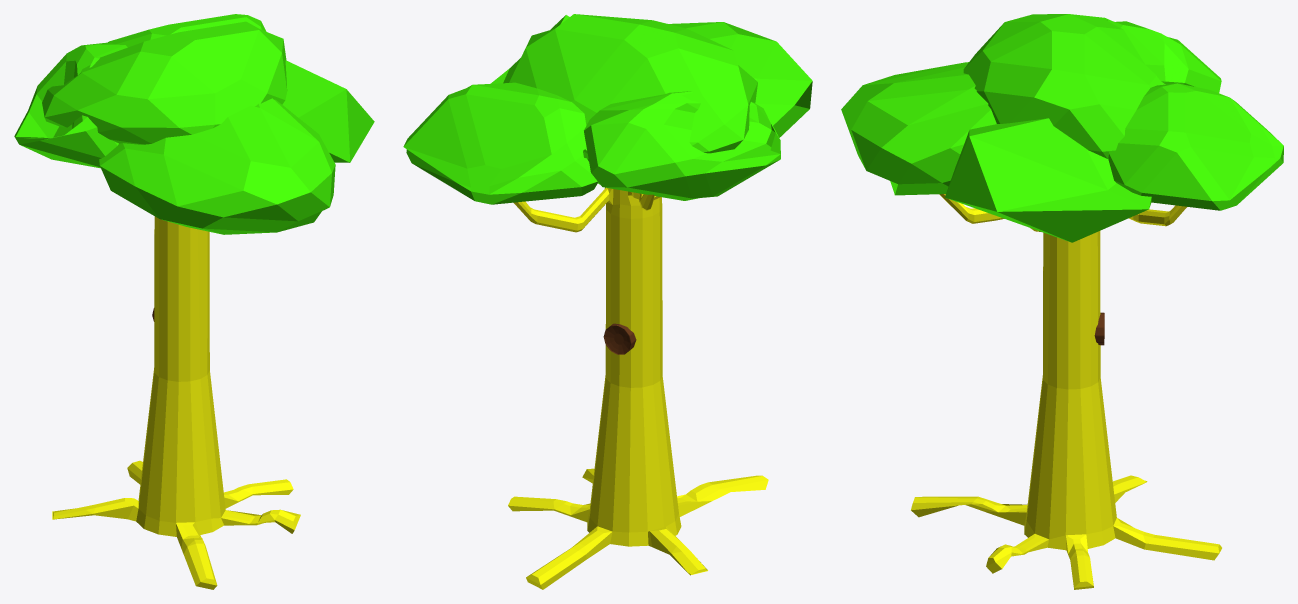
The model's file is treeoflife1.1.fbx.
3 renders of one model, left to right at view 1: azimuth 30°, elevation 25°; view 2: azimuth 150°, elevation 25°; view 3: azimuth 270°, elevation 25°, orthographic. The views are drawn at different scales.
Visible parts, largest first — view 1: Icosphere.001, Cylinder; view 2: Icosphere.001, Cylinder; view 3: Icosphere.001, Cylinder.
Part boxes in pixels (x1,y1,x2,y2): Icosphere.001: (14, 14, 374, 234); Cylinder: (52, 216, 300, 589); Icosphere.001: (403, 14, 812, 204); Cylinder: (508, 187, 768, 589); Icosphere.001: (841, 14, 1283, 242); Cylinder: (911, 194, 1221, 589).
Size of the model in its own units: 1625 by 2479 by 1926.
